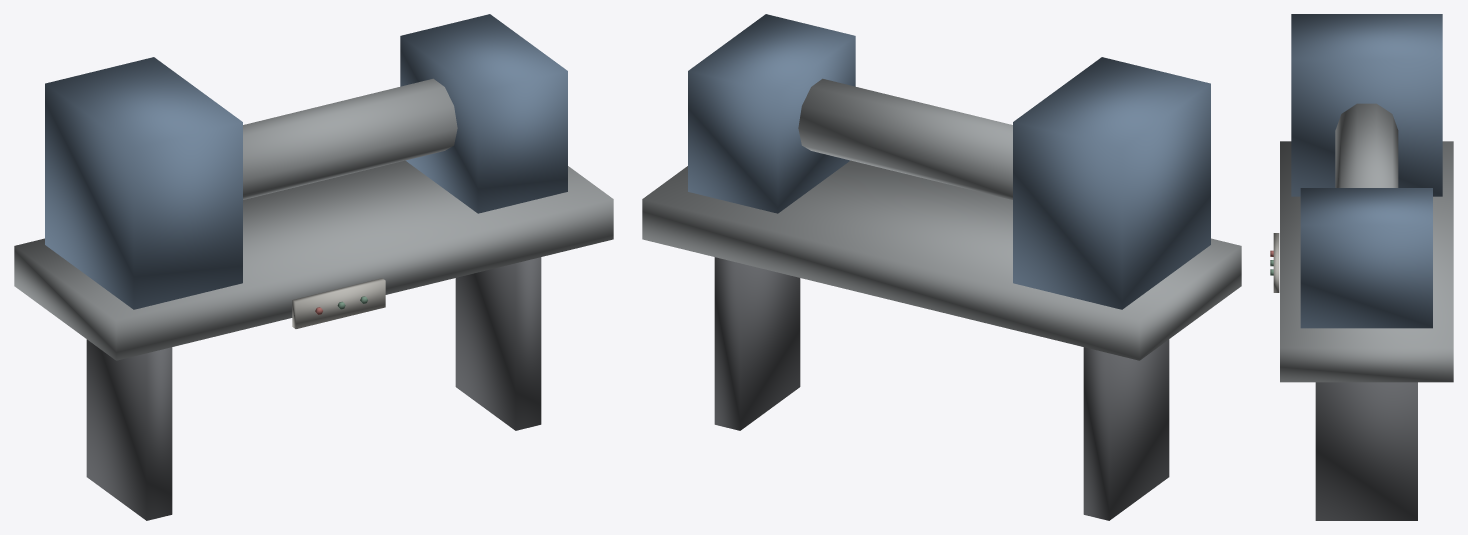
The model's file is metal_lathe_silhouette.glb.
3 views of the same model, side by side, from view 1: azimuth 30°, elevation 25°; view 2: azimuth 150°, elevation 25°; view 3: azimuth 270°, elevation 25° (orthographic). The views are drawn at different scales.
Visible parts, largest first — view 1: world; view 2: world; view 3: world.
Part boxes in pixels (bbox=[...]): world: bbox=[14, 14, 613, 520]; world: bbox=[642, 14, 1241, 520]; world: bbox=[1270, 14, 1453, 520].
Bounding box in the file's own units: 1.55 × 1.16 × 0.581.
